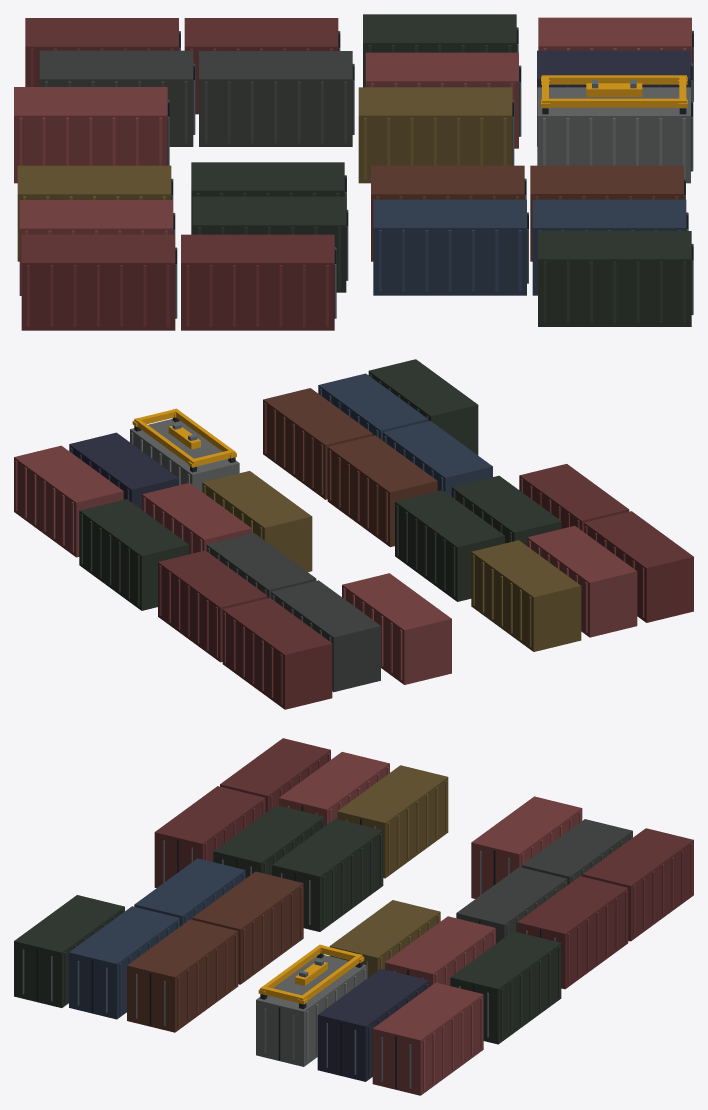
File: SeaportSystem-01-Container-01-20Footer-3-03.glb
3 views of the same model, one above another, from view 1: azimuth 30°, elevation 25°; view 2: azimuth 150°, elevation 25°; view 3: azimuth 270°, elevation 25° (orthographic). The views are drawn at different scales.
Visible parts, largest first — view 1: SeaportSystem-01-Container-01-20Footer-3-03; view 2: SeaportSystem-01-Container-01-20Footer-3-03; view 3: SeaportSystem-01-Container-01-20Footer-3-03.
Part boxes in pixels (x1=…): SeaportSystem-01-Container-01-20Footer-3-03: x1=14, y1=14, x2=693, y2=330; SeaportSystem-01-Container-01-20Footer-3-03: x1=14, y1=359, x2=693, y2=709; SeaportSystem-01-Container-01-20Footer-3-03: x1=14, y1=738, x2=693, y2=1095.
Bounding box in the file's own units: 74.81 × 8.25 × 71.12.
